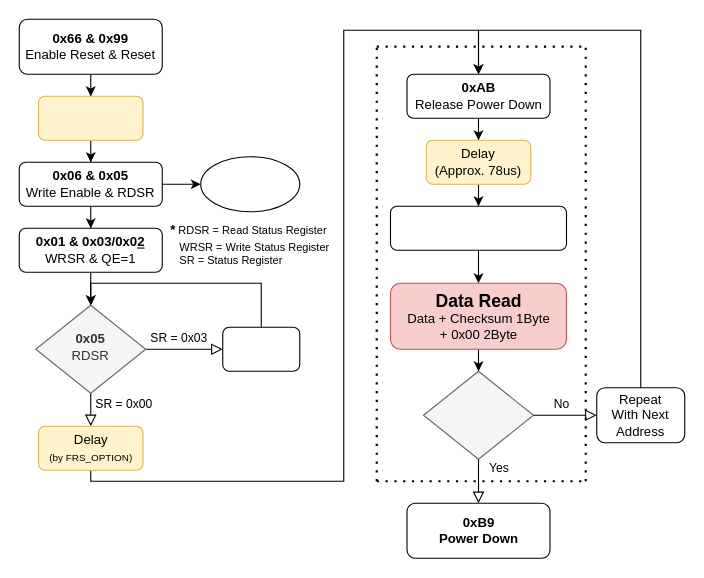
This 704x578 diagram has some shape labels left out. The centre of each missing label's shape, as x and y in pixels:
"0x02 WEL = 1" belongs at pixel 250 184.
"0x6B & Addr 3Byte+Dummy 1Byte" belongs at pixel 477 227.
"Delay (Approx. 40us)" belongs at pixel 90 117.
"Finished Reading All Addr?" belongs at pixel 478 414.
"Repeat" belongs at pixel 261 348.
